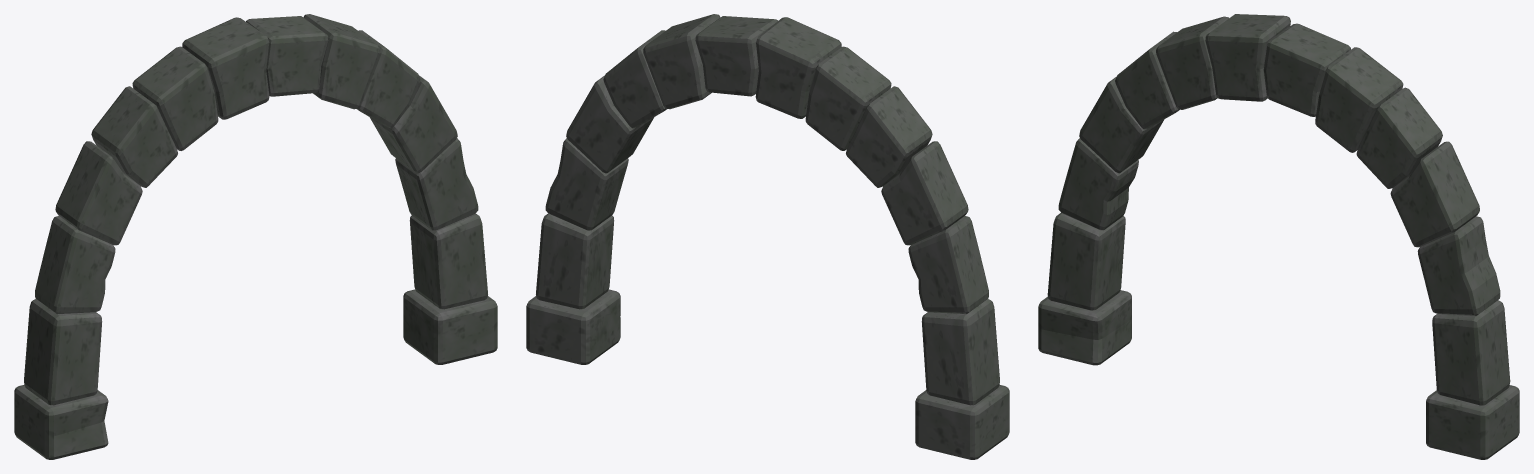
File: old_stone_arch.glb
3 renders of one model, left to right at view 1: azimuth 30°, elevation 25°; view 2: azimuth 150°, elevation 25°; view 3: azimuth 330°, elevation 25°, orthographic.
Parts seen in each view (by area): view 1: Arch; view 2: Arch; view 3: Arch.
Part boxes in pixels (x1=…): Arch: x1=14, y1=14, x2=497, y2=459; Arch: x1=526, y1=14, x2=1009, y2=459; Arch: x1=1038, y1=14, x2=1519, y2=459.
Size of the model in its own units: 172 by 135 by 24.
1 material, 1 textured.
